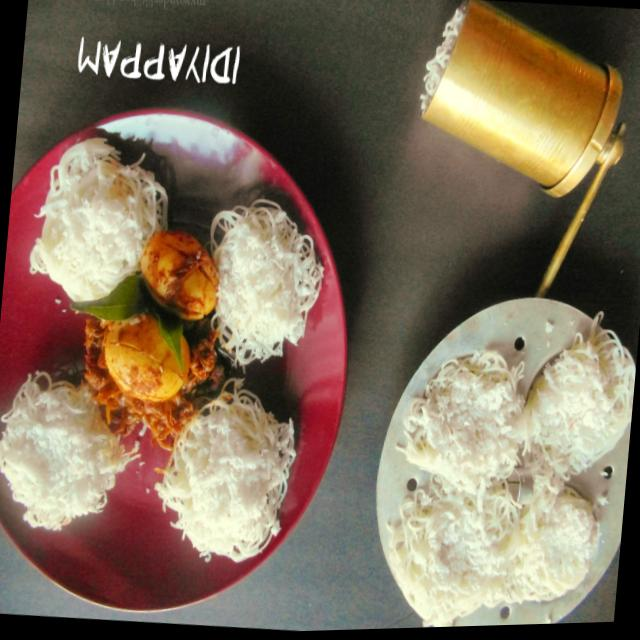EGG: (102, 225, 218, 404)
IDIYAPPAM: (0, 136, 295, 556), (384, 331, 634, 627), (172, 190, 320, 364)
